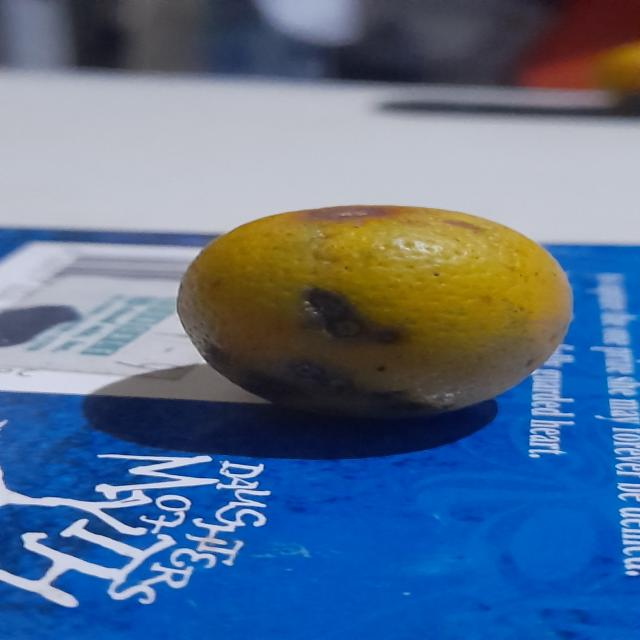black spot: (175, 204, 574, 421)
